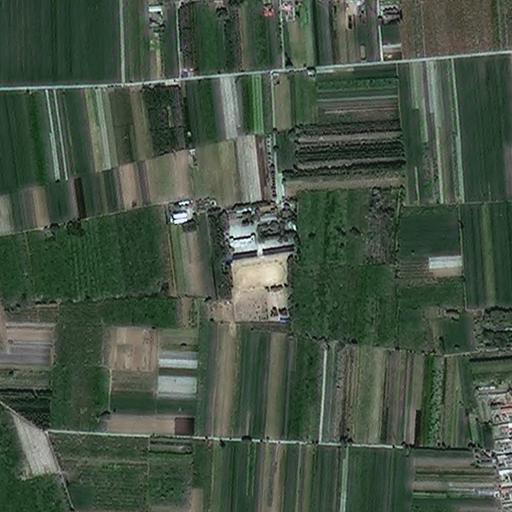school: (225, 203, 297, 292)
